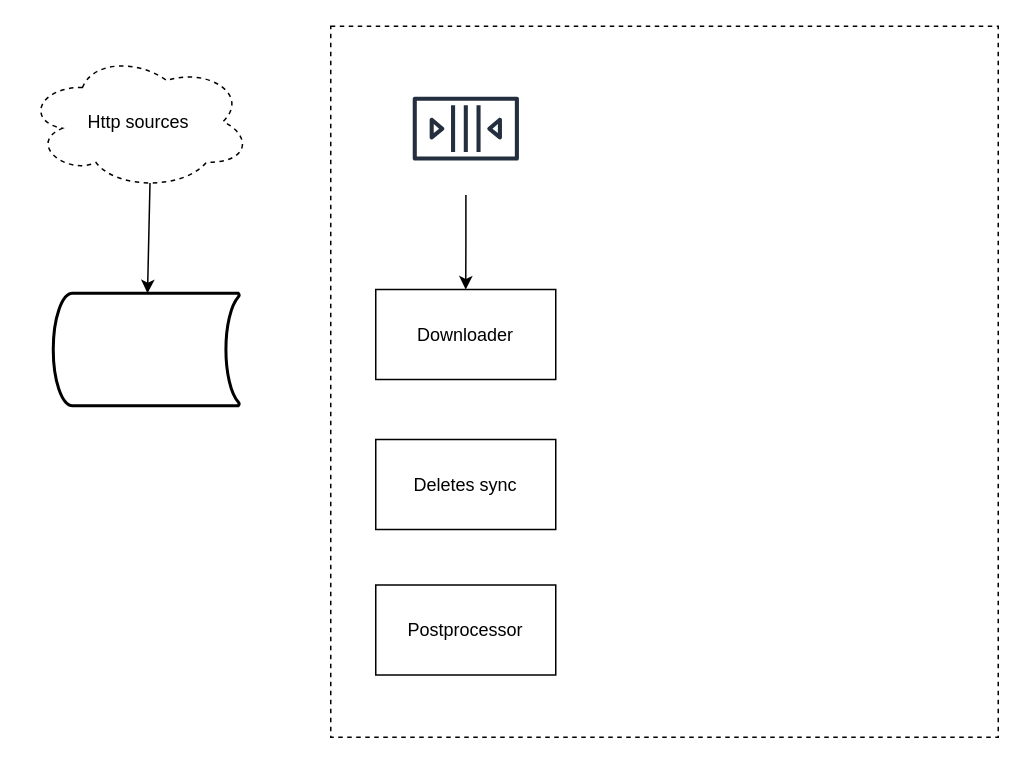
This 1025x764 diagram has some shape labels left out. The centre of each missing label's shape, as x and y in pixels:
download-sources: (x=465, y=128)
File storage: (x=145, y=348)
